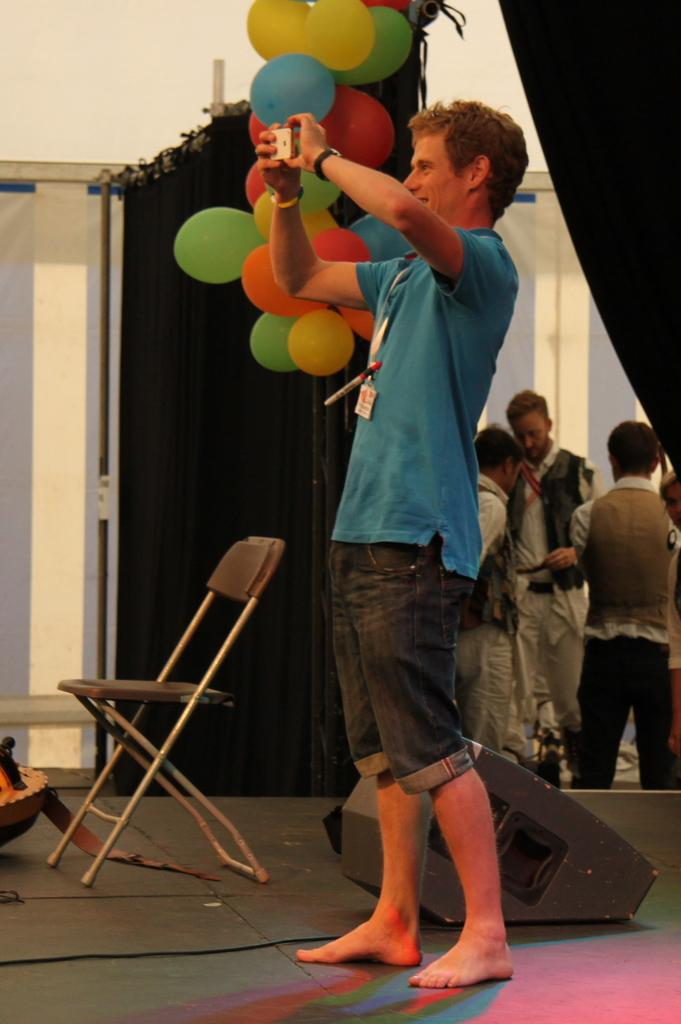Chair: (37, 529, 288, 894)
